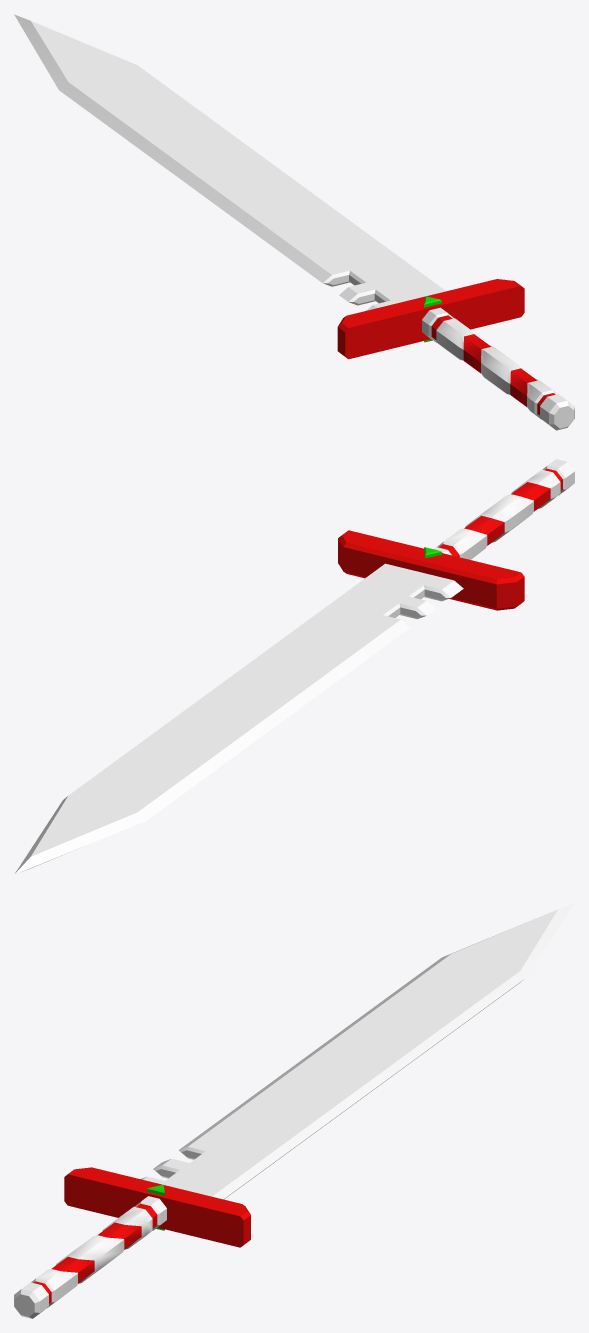
The model's file is TechSword.gltf.
3 renders of one model, top to bottom at view 1: azimuth 30°, elevation 25°; view 2: azimuth 150°, elevation 25°; view 3: azimuth 330°, elevation 25°, orthographic.
Parts seen in each view (by area): view 1: Cube; view 2: Cube; view 3: Cube.
Boxes of the visible parts, box(x1,y1,x2,y2) form: Cube: box(14, 14, 574, 430); Cube: box(14, 459, 574, 874); Cube: box(14, 903, 574, 1318).
Size of the model in its own units: 1.72 by 0.3645 by 9.15.
Materials: 1 (1 with a texture image).
